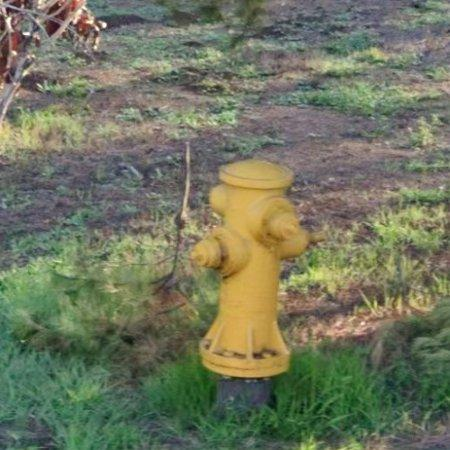a fire hydrant: (191, 160, 322, 409)
